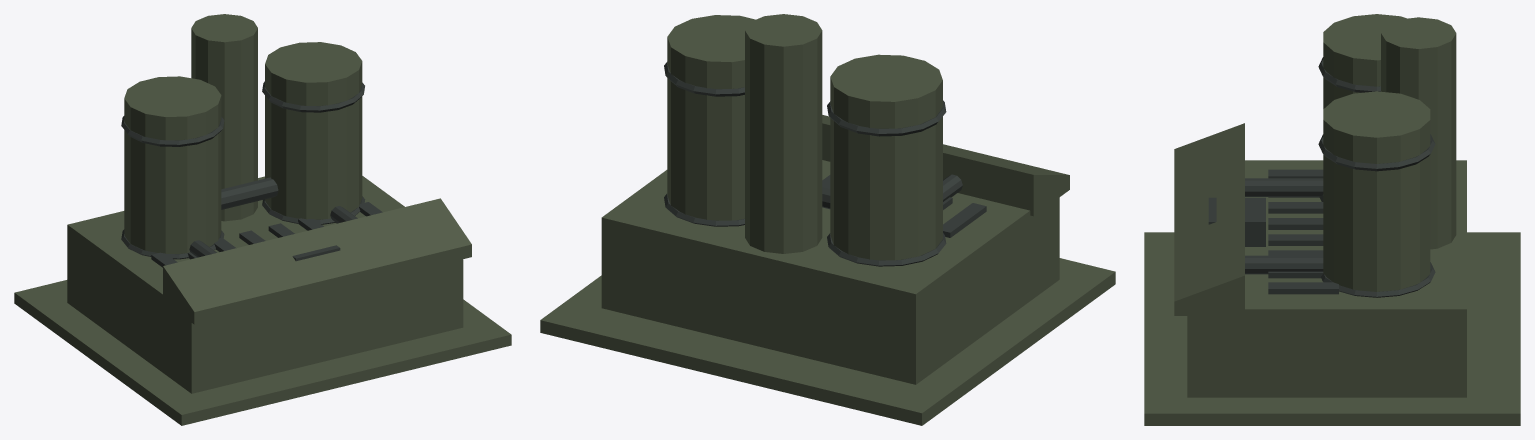
File: Bastion_LargePowerPlant_Static.obj
The picture shows the model from 3 angles, left to right: view 1: azimuth 30°, elevation 25°; view 2: azimuth 150°, elevation 25°; view 3: azimuth 270°, elevation 25°; orthographic projection. The views are drawn at different scales.
Visible parts, largest first — view 1: Bastion_LargePowerPlant_Static; view 2: Bastion_LargePowerPlant_Static; view 3: Bastion_LargePowerPlant_Static.
Boxes of the visible parts, box(x1,y1,x2,y2) form: Bastion_LargePowerPlant_Static: box(14, 14, 511, 425); Bastion_LargePowerPlant_Static: box(540, 14, 1115, 425); Bastion_LargePowerPlant_Static: box(1144, 14, 1520, 425).
Bounding box in the file's own units: 8.2 × 6.38 × 7.2.
1 material, 1 textured.
